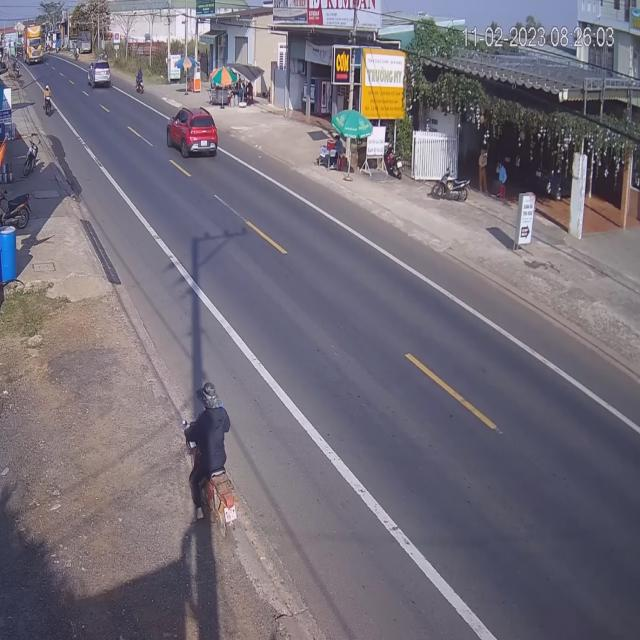car: (170, 107, 222, 160), (89, 58, 112, 89)
motorbike: (189, 384, 237, 540), (42, 84, 53, 118), (136, 67, 145, 94)
